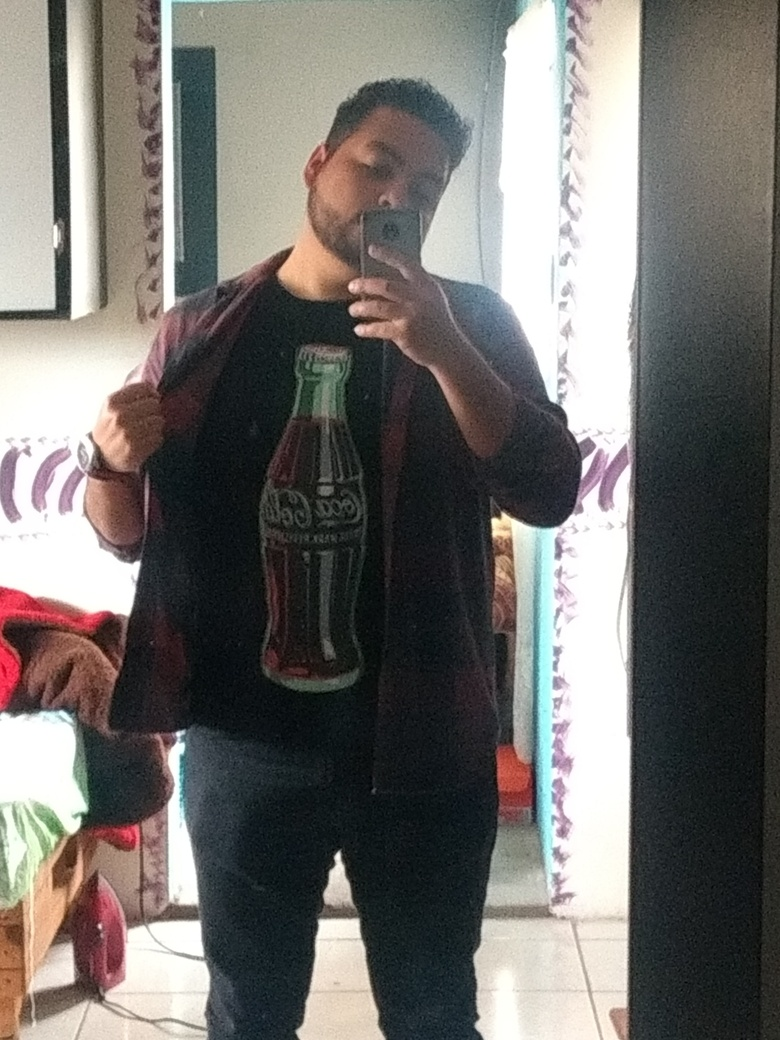Yoshi: (292, 49, 501, 293)
